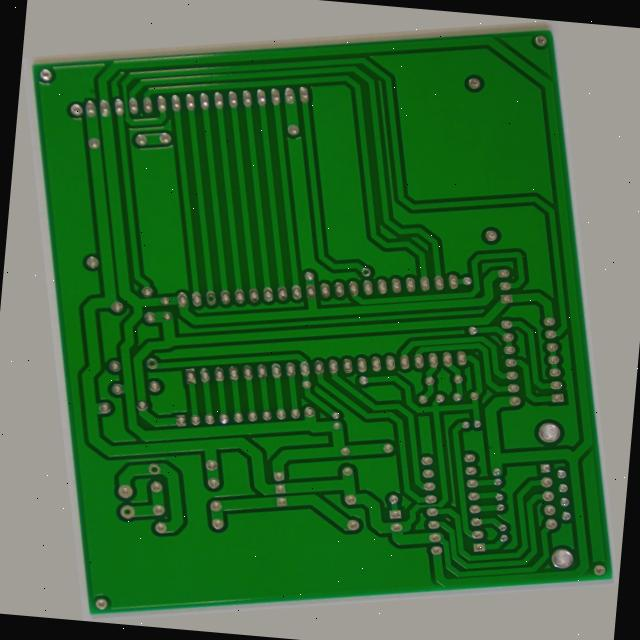missing_hole: (37, 486, 62, 507), (80, 445, 103, 464), (101, 326, 122, 346), (375, 265, 395, 281), (187, 267, 205, 282)
